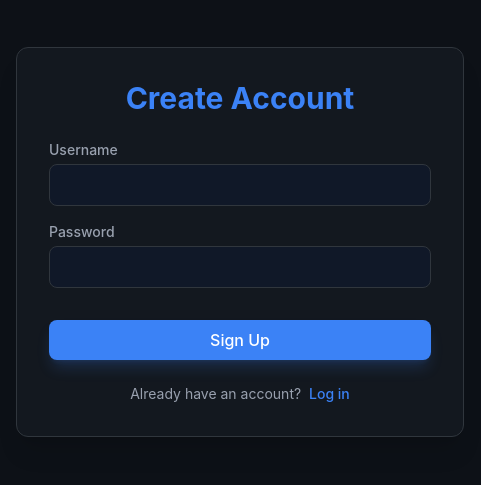
Scenario: Signup Page — client-side validation › short username (2 chars) shows client-side error without hitting API
Type "ab" into the field. click: (240, 185)
box: x1=49 y1=164 x2=431 y2=206
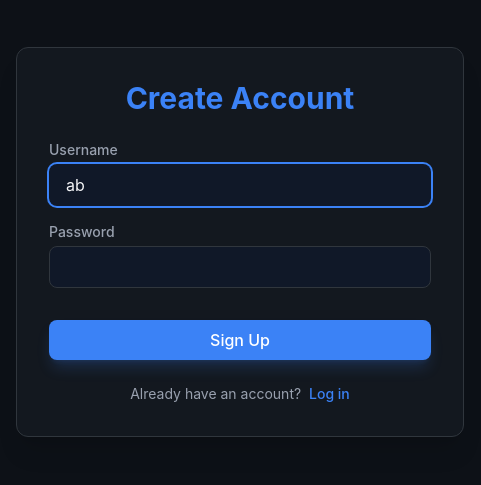
Type "validpassword" into the password field. click: (240, 267)
box: x1=49 y1=246 x2=431 y2=288
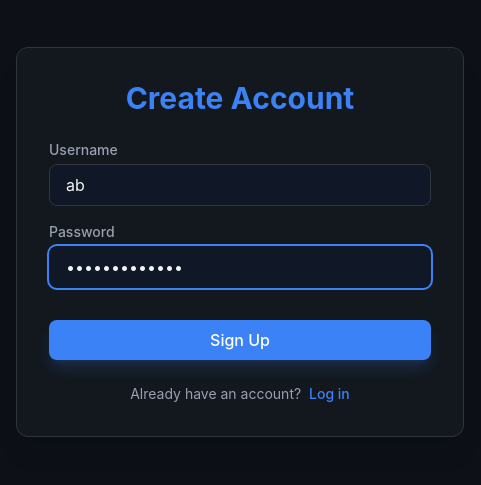
Click the button "Sign Up". click: (240, 340)
box: x1=49 y1=320 x2=431 y2=360
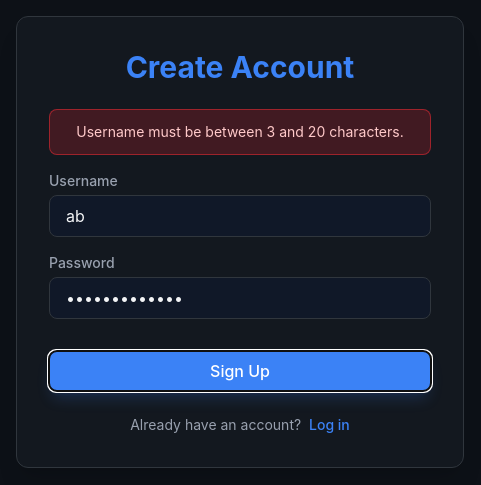
Expected: the text "Username must be between 3 and 20 characters." is shown, x1=49 y1=109 x2=431 y2=155
